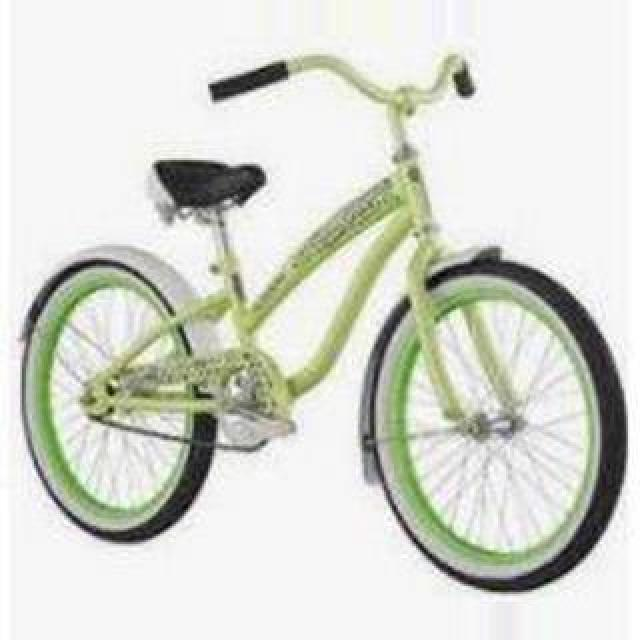Person: (16, 50, 624, 588)
